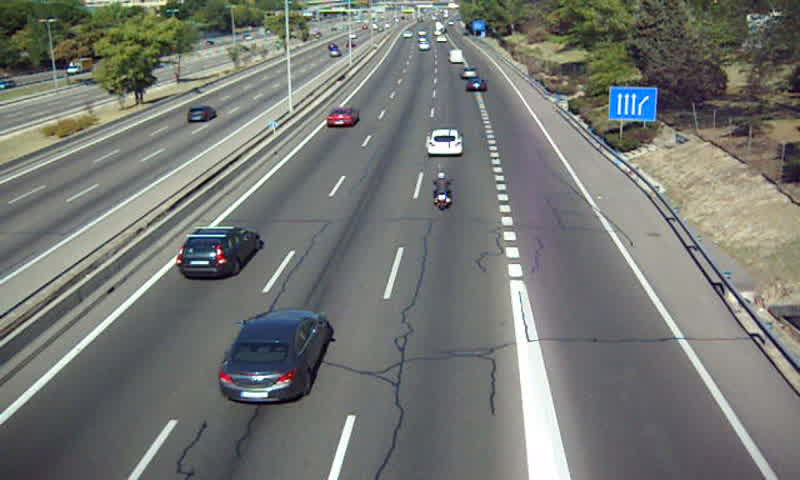car: (218, 310, 330, 403), (176, 226, 263, 278), (426, 130, 463, 158), (325, 107, 358, 129), (465, 79, 488, 93), (460, 66, 480, 80)
motorcycle: (432, 171, 452, 213)
van: (448, 48, 464, 63)
